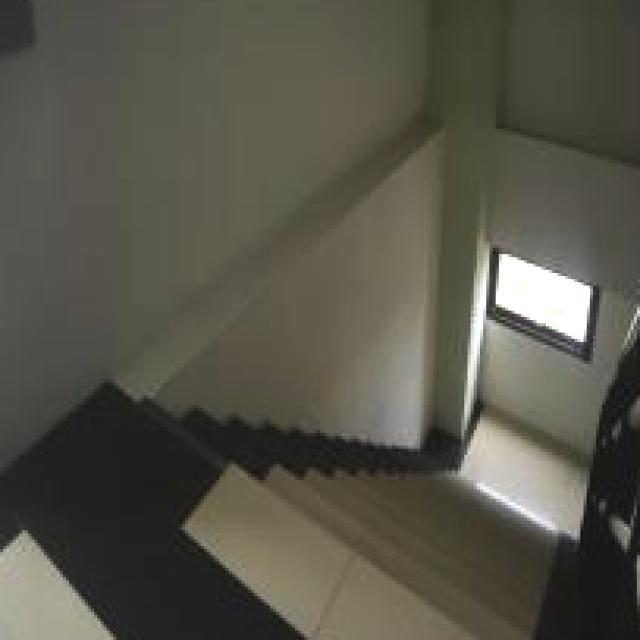downstair: (195, 405, 593, 640)
